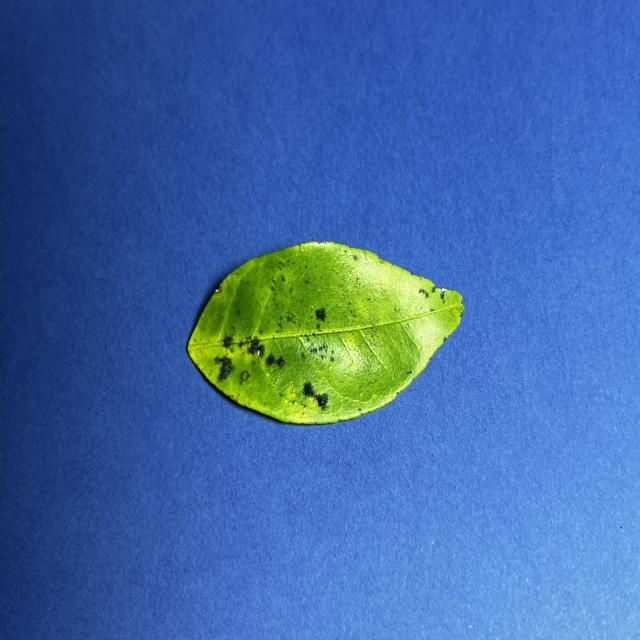sooty_mold: (188, 242, 464, 423)
